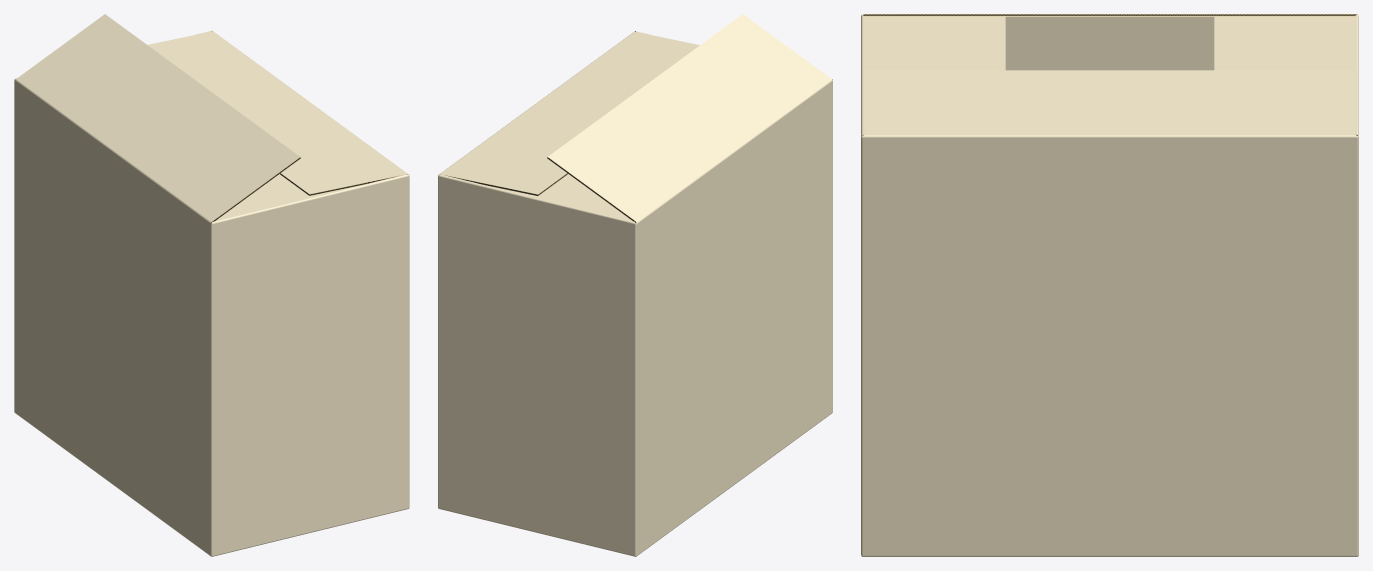
The model's file is 3D ANTONIO LOPEZ.gltf.
3 renders of one model, left to right at view 1: azimuth 30°, elevation 25°; view 2: azimuth 150°, elevation 25°; view 3: azimuth 270°, elevation 25°, orthographic. The views are drawn at different scales.
Parts seen in each view (by area): view 1: TQ_ARD-node; view 2: TQ_ARD-node; view 3: TQ_ARD-node.
Part boxes in pixels (<box>): TQ_ARD-node: <box>14,14,409,556</box>; TQ_ARD-node: <box>438,14,832,556</box>; TQ_ARD-node: <box>861,14,1358,556</box>.
Bounding box in the file's own units: 0.4873 × 0.8853 × 0.8383.
Materials: 3 (1 with a texture image).
